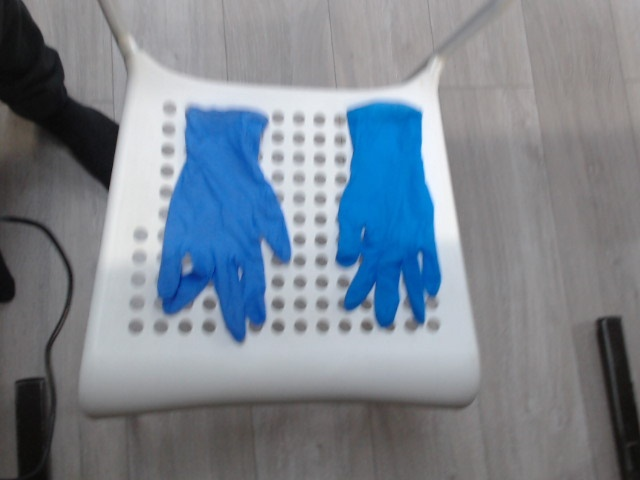medical_glove: (160, 106, 292, 341), (338, 102, 441, 327)
